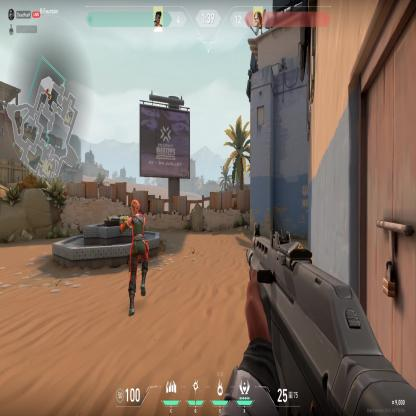enemy: (118, 196, 150, 318)
